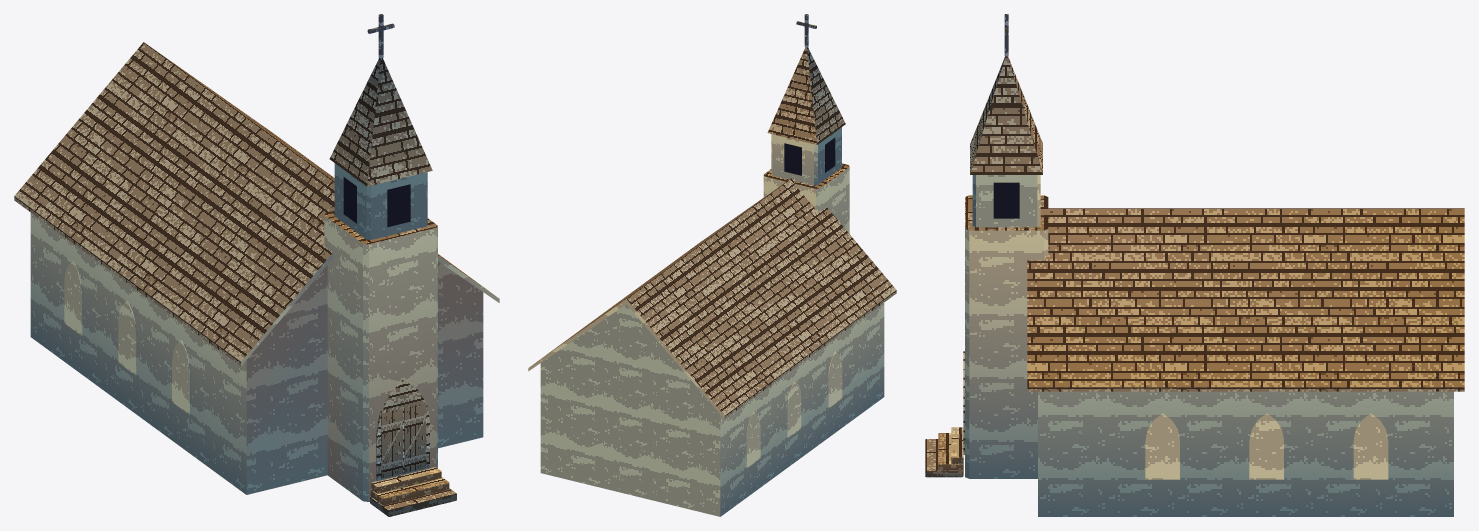
The model's file is wtown.church.glb.
The picture shows the model from 3 angles, left to right: view 1: azimuth 30°, elevation 25°; view 2: azimuth 150°, elevation 25°; view 3: azimuth 270°, elevation 25°; orthographic projection. The views are drawn at different scales.
Visible parts, largest first — view 1: kit_roof, kit_body, kit_tower, kit_spire, kit_card_panes, kit_belfry, kit_windows, kit_steps, kit_trim; view 2: kit_body, kit_roof, kit_spire, kit_belfry, kit_tower, kit_windows, kit_card_panes; view 3: kit_roof, kit_body, kit_tower, kit_windows, kit_spire, kit_belfry, kit_steps, kit_card_panes.
Part boxes in pixels (bbox=[...]): kit_roof: bbox=[14, 42, 499, 365]; kit_body: bbox=[30, 213, 483, 494]; kit_tower: bbox=[324, 211, 437, 501]; kit_spire: bbox=[329, 58, 432, 186]; kit_card_panes: bbox=[343, 177, 426, 478]; kit_belfry: bbox=[334, 163, 427, 239]; kit_windows: bbox=[64, 261, 190, 415]; kit_steps: bbox=[370, 467, 456, 516]; kit_trim: bbox=[376, 380, 429, 481]; kit_body: bbox=[540, 303, 884, 516]; kit_roof: bbox=[528, 177, 896, 419]; kit_spire: bbox=[767, 47, 845, 144]; kit_belfry: bbox=[771, 127, 841, 185]; kit_tower: bbox=[763, 163, 849, 233]; kit_windows: bbox=[746, 351, 842, 468]; kit_card_panes: bbox=[784, 137, 835, 175]; kit_roof: bbox=[1027, 208, 1464, 391]; kit_body: bbox=[1038, 391, 1453, 516]; kit_tower: bbox=[965, 195, 1048, 478]; kit_windows: bbox=[1145, 413, 1388, 479]; kit_spire: bbox=[970, 56, 1042, 174]; kit_belfry: bbox=[972, 175, 1040, 227]; kit_steps: bbox=[925, 427, 963, 477]; kit_card_panes: bbox=[993, 182, 1019, 218].
Bounding box in the file's own units: 8.3 × 14.2 × 15.54.
Materials: 9 (9 with a texture image).
